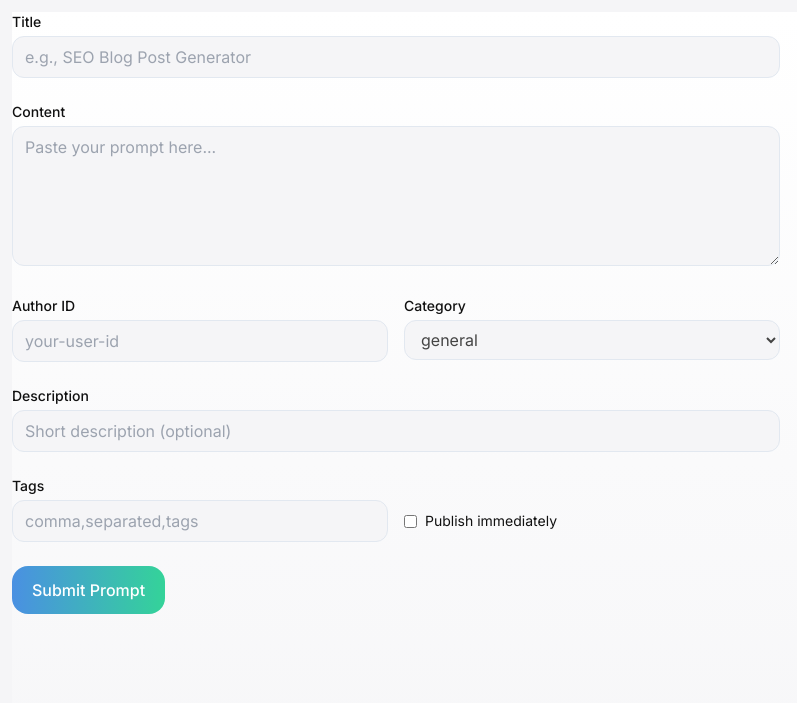
Test case: PromptForm › validates client-side and shows errors
The width and height of the screenshot is (797, 703).
What coordinates should you click on to do the following:
click the button "Submit Prompt"
I would click on:
 (89, 590)
Its box is left=12, top=566, right=165, bottom=614.
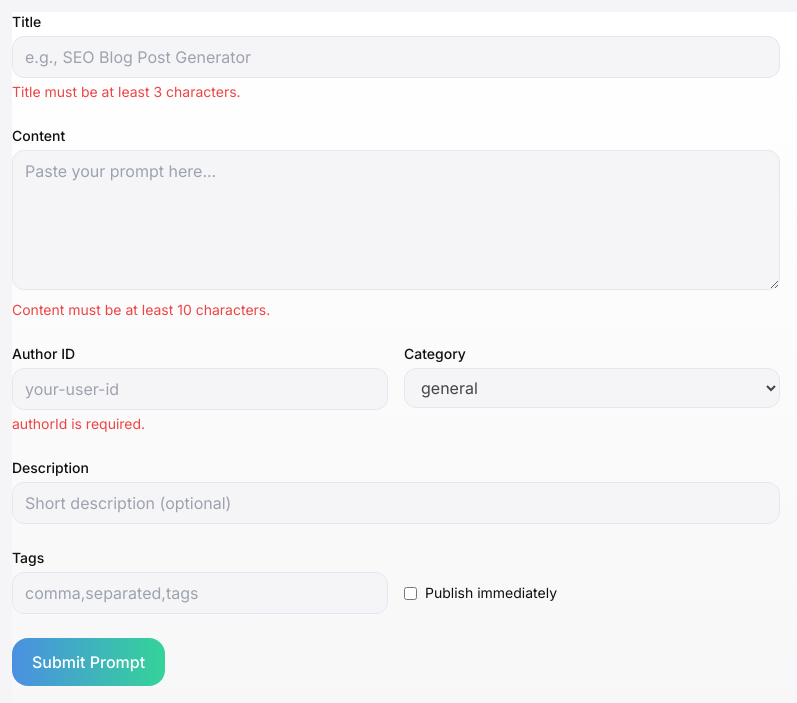
Result: the text "Title must be at least 3 characters." is shown at left=12, top=83, right=241, bottom=100
Result: the text "Content must be at least 10 characters." is shown at left=12, top=301, right=270, bottom=318
Result: the text "authorId is required." is shown at left=12, top=415, right=145, bottom=432
